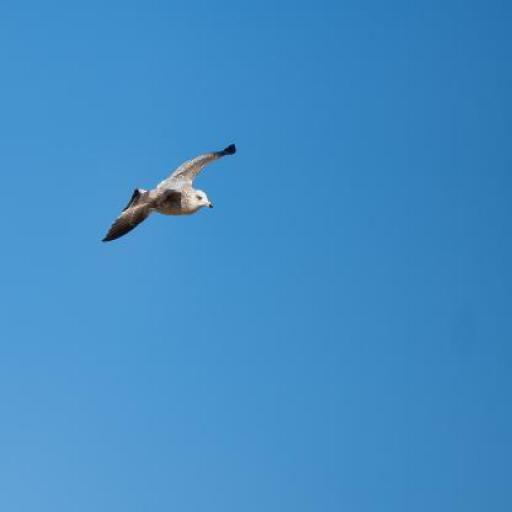bird: (102, 143, 237, 239)
